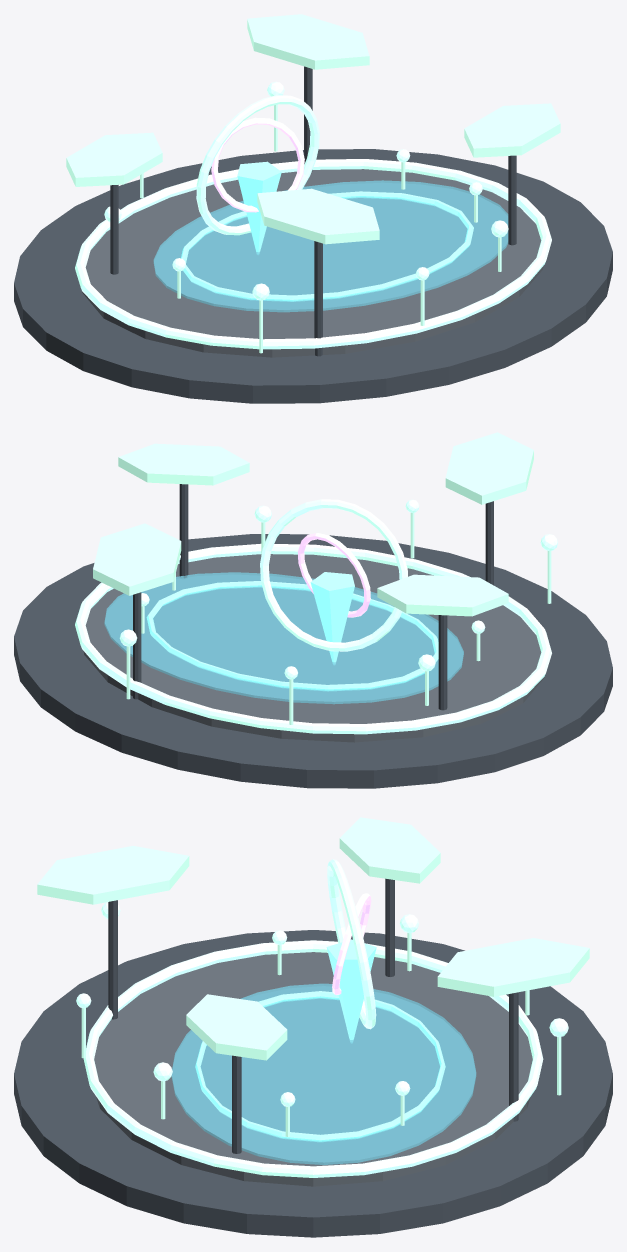
Rendered from reflection-garden-lod1.3de1caf0d46e.glb.
3 views of the same model, one above another, from view 1: azimuth 30°, elevation 25°; view 2: azimuth 150°, elevation 25°; view 3: azimuth 270°, elevation 25° (orthographic). The views are drawn at different scales.
Visible parts, largest first — view 1: garden_terrace_outer, reflective_pool, garden_terrace_inner, quiet_path_outer, canopy_crown_3, canopy_crown_1, canopy_crown_0, canopy_crown_2, quiet_path_inner, reflection_monument_outer, reflection_crystal, reflection_monument_inner (+4 smaller); view 2: garden_terrace_outer, reflective_pool, garden_terrace_inner, quiet_path_outer, canopy_crown_1, canopy_crown_3, canopy_crown_0, canopy_crown_2, reflection_monument_outer, quiet_path_inner, reflection_crystal, reflection_monument_inner (+4 smaller); view 3: garden_terrace_outer, reflective_pool, garden_terrace_inner, quiet_path_outer, canopy_crown_3, canopy_crown_1, canopy_crown_0, canopy_crown_2, quiet_path_inner, reflection_monument_outer, reflection_crystal, canopy_stem_1 (+4 smaller).
Part boxes in pixels (left/top/right/bottom): garden_terrace_outer: left=14, top=149, right=612, bottom=403; reflective_pool: left=153, top=180, right=508, bottom=312; garden_terrace_inner: left=82, top=169, right=543, bottom=357; quiet_path_outer: left=75, top=159, right=551, bottom=349; canopy_crown_3: left=247, top=14, right=369, bottom=69; canopy_crown_1: left=257, top=188, right=379, bottom=244; canopy_crown_0: left=464, top=103, right=560, bottom=157; canopy_crown_2: left=66, top=132, right=162, bottom=186; quiet_path_inner: left=181, top=191, right=473, bottom=301; reflection_monument_outer: left=196, top=95, right=319, bottom=235; reflection_crystal: left=237, top=161, right=281, bottom=254; reflection_monument_inner: left=211, top=117, right=304, bottom=212; garden_terrace_outer: left=14, top=534, right=612, bottom=788; reflective_pool: left=104, top=572, right=463, bottom=704; garden_terrace_inner: left=83, top=554, right=544, bottom=742; quiet_path_outer: left=75, top=543, right=551, bottom=734; canopy_crown_1: left=445, top=432, right=533, bottom=504; canopy_crown_3: left=93, top=523, right=181, bottom=595; canopy_crown_0: left=118, top=443, right=249, bottom=485; canopy_crown_2: left=377, top=574, right=508, bottom=616; reflection_monument_outer: left=260, top=499, right=407, bottom=651; quiet_path_inner: left=146, top=581, right=438, bottom=691; reflection_crystal: left=310, top=572, right=354, bottom=664; reflection_monument_inner: left=297, top=533, right=370, bottom=617; garden_terrace_outer: left=14, top=930, right=612, bottom=1237; reflective_pool: left=171, top=983, right=476, bottom=1164; garden_terrace_inner: left=94, top=952, right=532, bottom=1186; quiet_path_outer: left=83, top=940, right=543, bottom=1177; canopy_crown_3: left=437, top=938, right=589, bottom=996; canopy_crown_1: left=37, top=846, right=189, bottom=904; canopy_crown_0: left=186, top=994, right=287, bottom=1060; canopy_crown_2: left=339, top=817, right=440, bottom=883; quiet_path_inner: left=195, top=991, right=445, bottom=1141; reflection_monument_outer: left=327, top=859, right=376, bottom=1029; reflection_crystal: left=326, top=939, right=376, bottom=1042; canopy_stem_1: left=108, top=900, right=117, bottom=1019.
Bounding box in the file's own units: 9.8 × 3.29 × 8.62.
